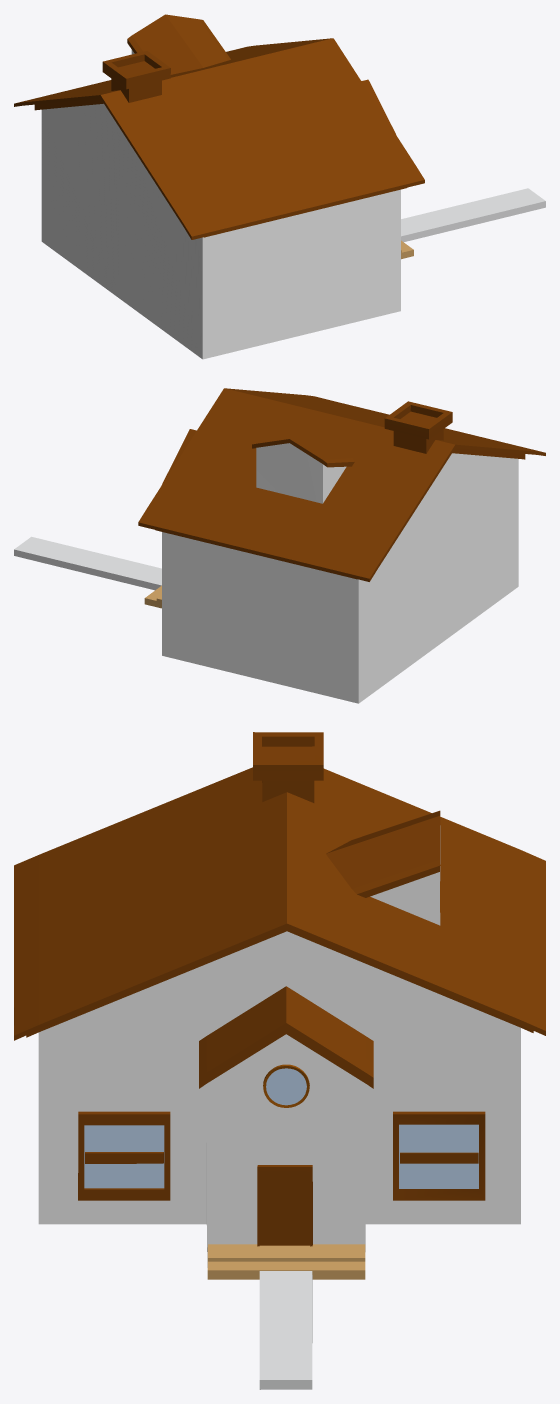
The model's file is casa7.fbx.
3 renders of one model, top to bottom at view 1: azimuth 30°, elevation 25°; view 2: azimuth 150°, elevation 25°; view 3: azimuth 270°, elevation 25°, orthographic. The views are drawn at different scales.
Visible parts, largest first — view 1: Cube.072; view 2: Cube.072; view 3: Cube.072.
Boxes of the visible parts, x1,y1,x2,y2 form: Cube.072: (14, 14, 545, 359); Cube.072: (14, 388, 545, 703); Cube.072: (14, 732, 545, 1389).
Size of the model in its own units: 1944 by 994 by 1371.
